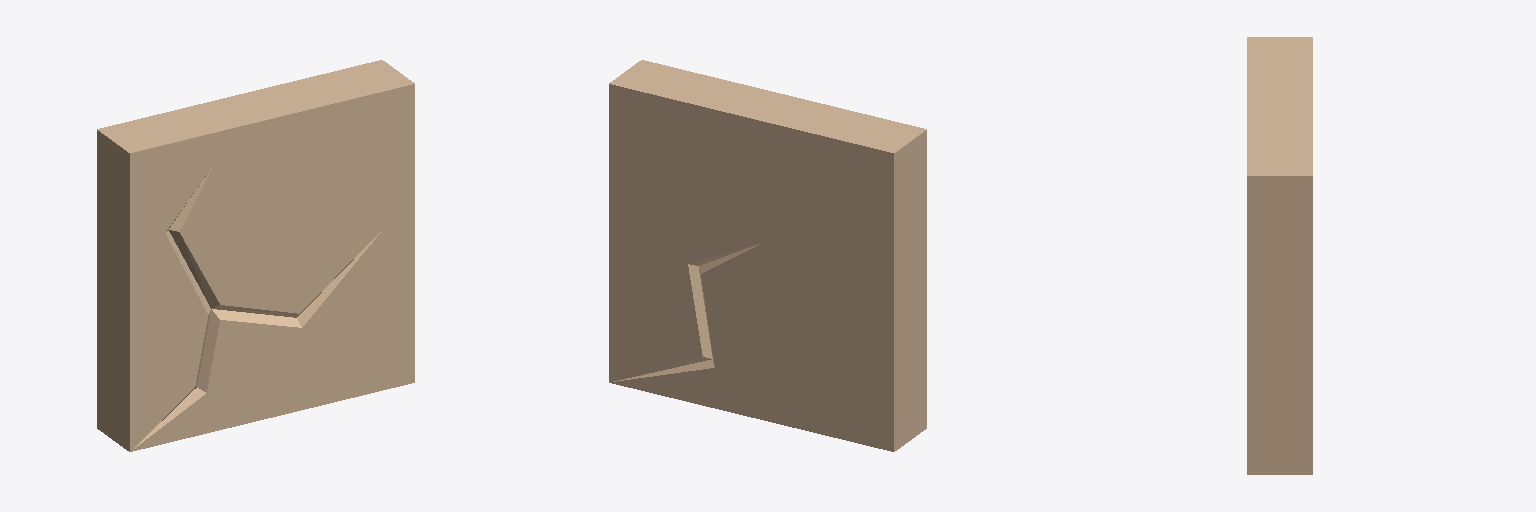
The model's file is Wall_Ruined_Full_Cracked_2.obj.
3 renders of one model, left to right at view 1: azimuth 30°, elevation 25°; view 2: azimuth 150°, elevation 25°; view 3: azimuth 270°, elevation 25°, orthographic.
Visible parts, largest first — view 1: object1; view 2: object1; view 3: object1.
Boxes of the visible parts, x1=… form: object1: x1=97, y1=60, x2=414, y2=451; object1: x1=609, y1=60, x2=926, y2=451; object1: x1=1247, y1=37, x2=1312, y2=474.
Bounding box in the file's own units: 1 × 1 × 0.2.